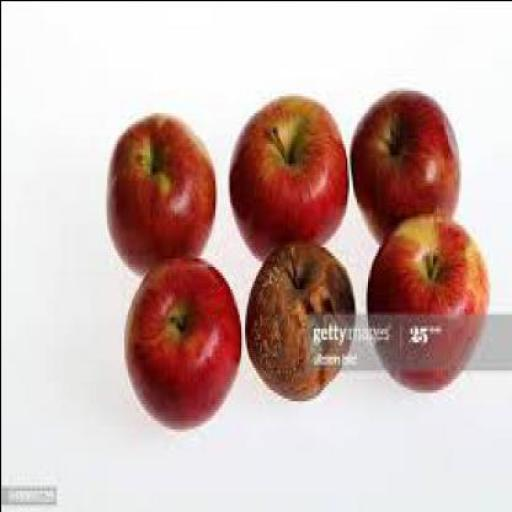biodegradable: (362, 210, 488, 392), (120, 255, 238, 428), (224, 92, 346, 258), (104, 111, 216, 269), (242, 238, 352, 398), (346, 84, 458, 241)
